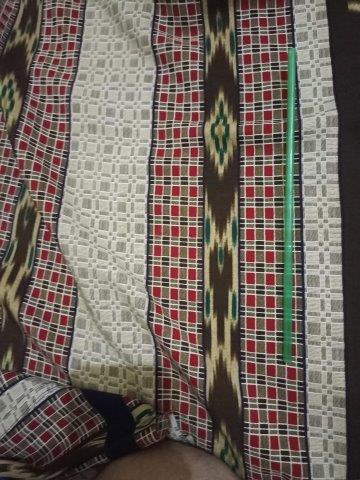sedotan: (283, 48, 295, 360)
